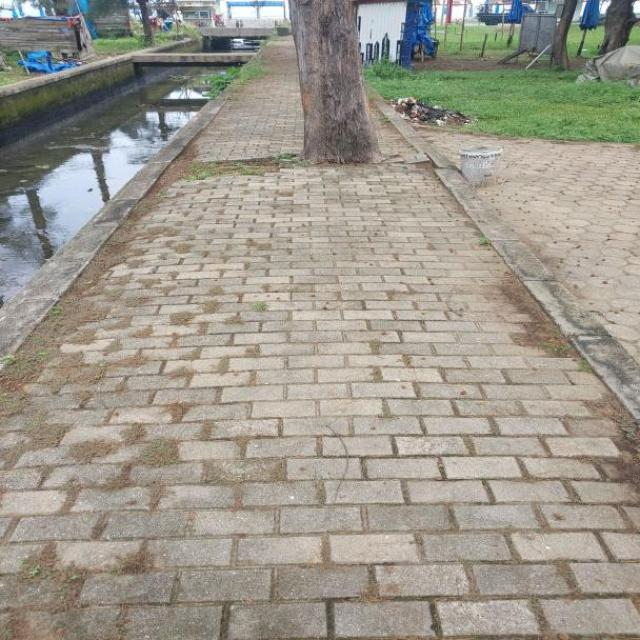tree ahead at: (283, 0, 385, 166)
